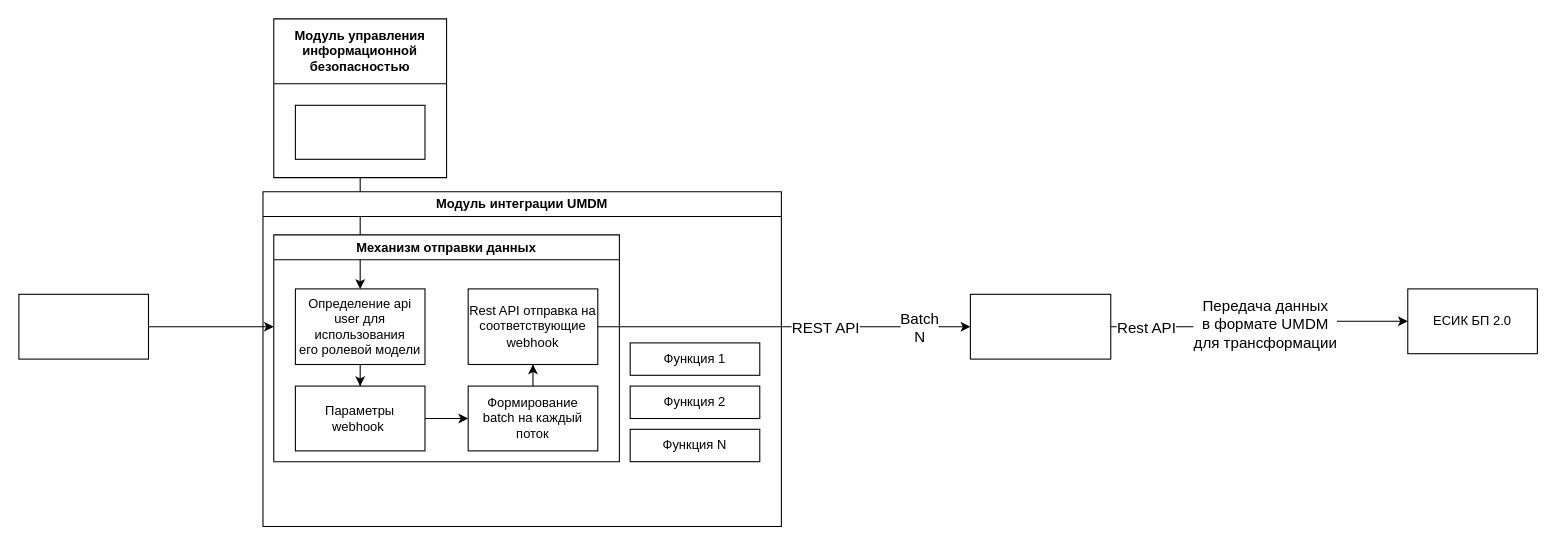
Some shapes in this 1556 by 545 pixel diagram are drawn without their labels. Each missing label, with the centre of its shape:
Flow маршрутизации Атом.Мост: the point at 1040,326
Ведение API users: the point at 359,131
Событие с данными в системе UMDM: the point at 83,326
